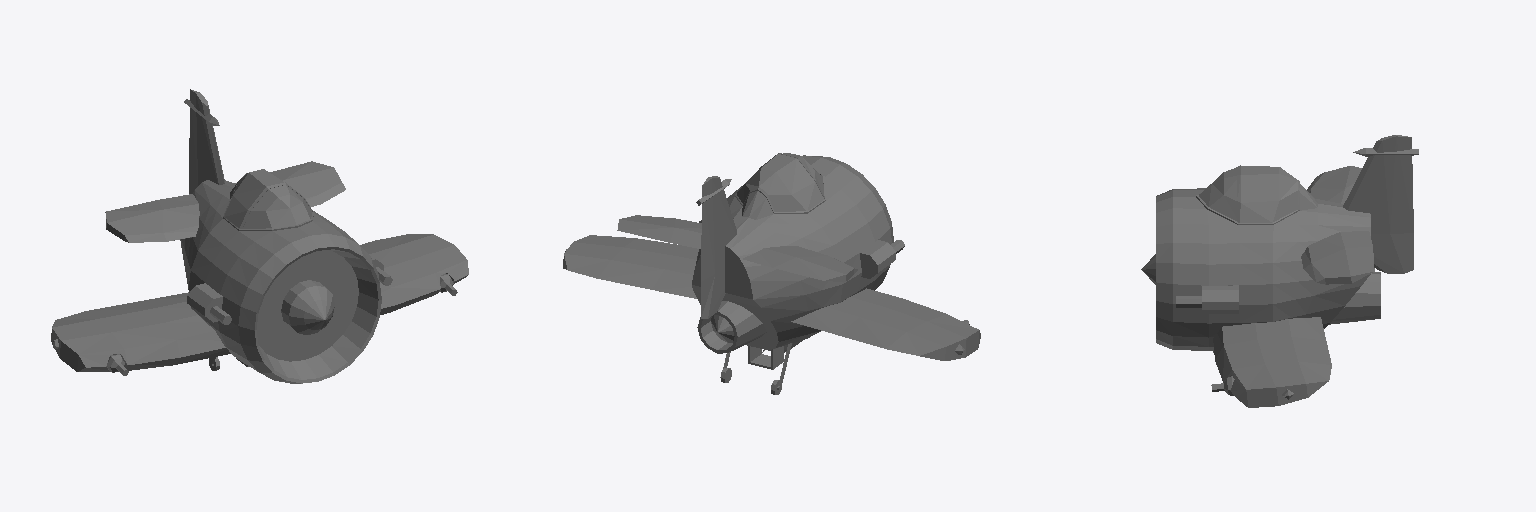
File: Airplane.obj
3 renders of one model, left to right at view 1: azimuth 30°, elevation 25°; view 2: azimuth 150°, elevation 25°; view 3: azimuth 270°, elevation 25°, orthographic.
Parts seen in each view (by area): view 1: Airplane:Airplane, Airplane:Glass; view 2: Airplane:Airplane, Airplane:Glass; view 3: Airplane:Airplane, Airplane:Glass.
Boxes of the visible parts, <box> form: Airplane:Airplane: <box>51,89,468,383</box>; Airplane:Glass: <box>224,169,311,228</box>; Airplane:Airplane: <box>563,153,980,394</box>; Airplane:Glass: <box>737,153,824,211</box>; Airplane:Airplane: <box>1141,135,1418,407</box>; Airplane:Glass: <box>1199,166,1297,222</box>.
Bounding box in the file's own units: 57.23 × 33.08 × 34.45.